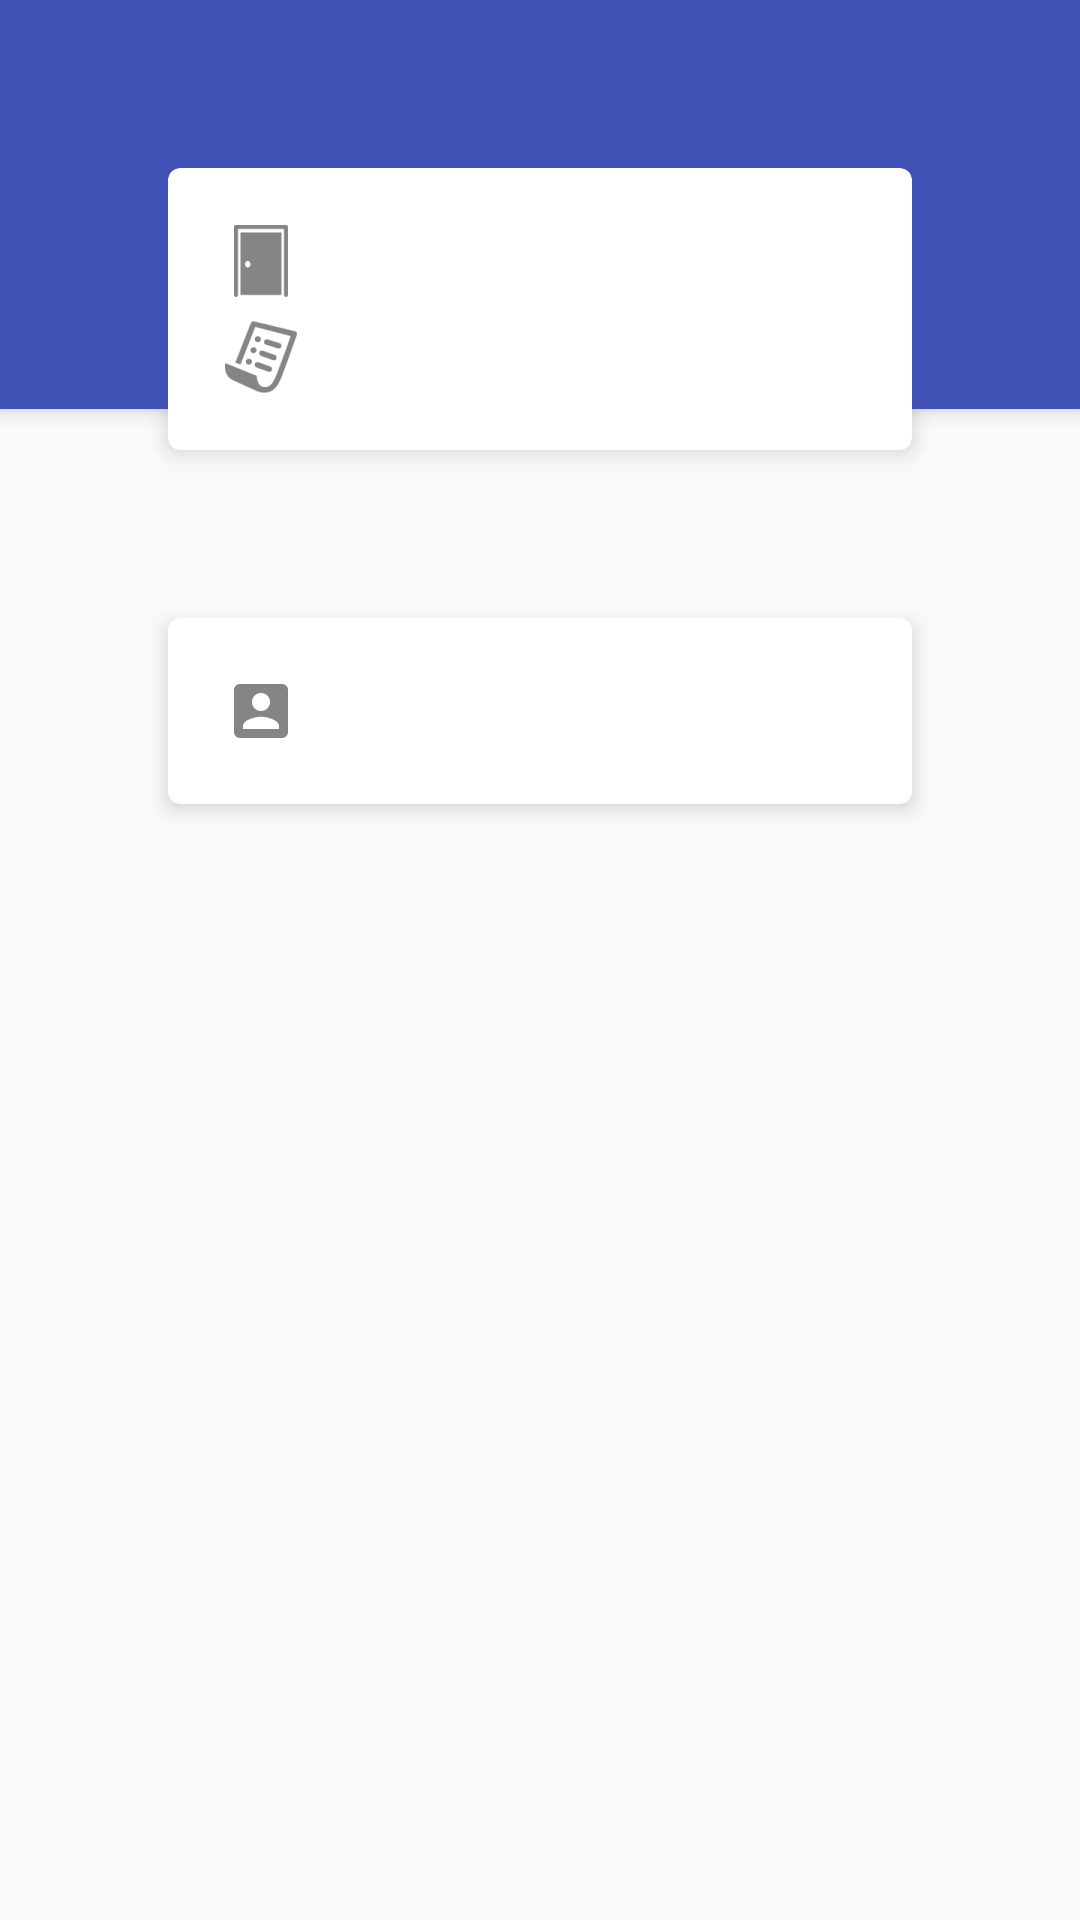

Icon click points for this 1080x1920 phone screenshot, format (x,y):
account box: (261,711)
description: (261,357)
room: (261,261)
